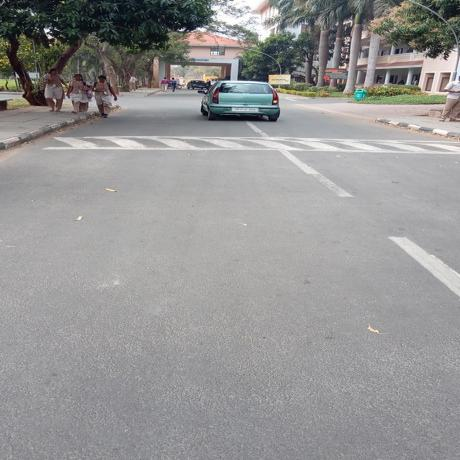Speed Bump: (32, 134, 459, 152)
